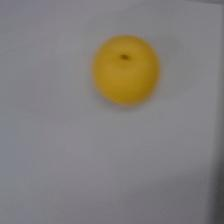yellow: (86, 29, 171, 113)
